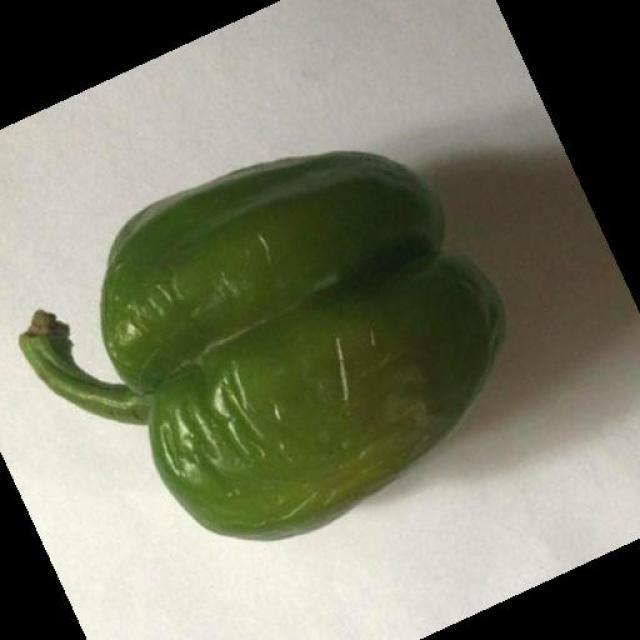Stale_Capsicum: (80, 168, 480, 518)
